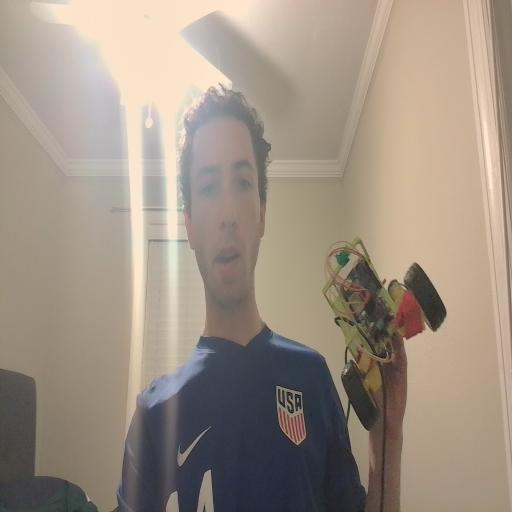green LEGO minifig: (334, 246, 351, 269)
